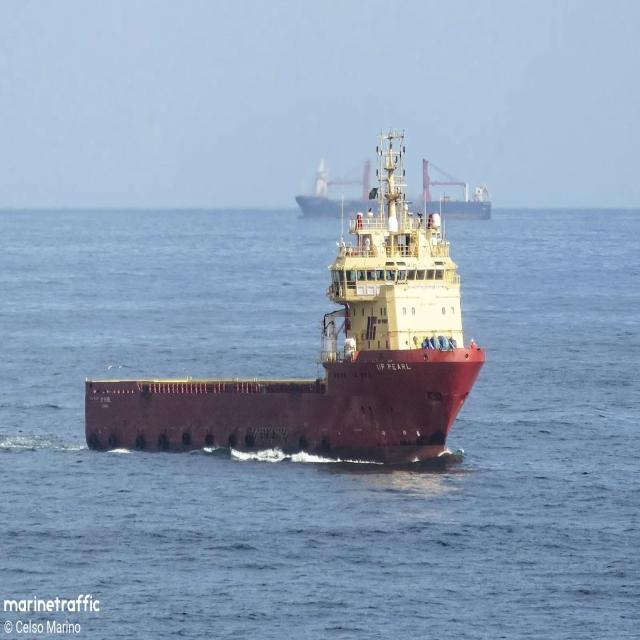Offshore: (85, 130, 485, 465)
